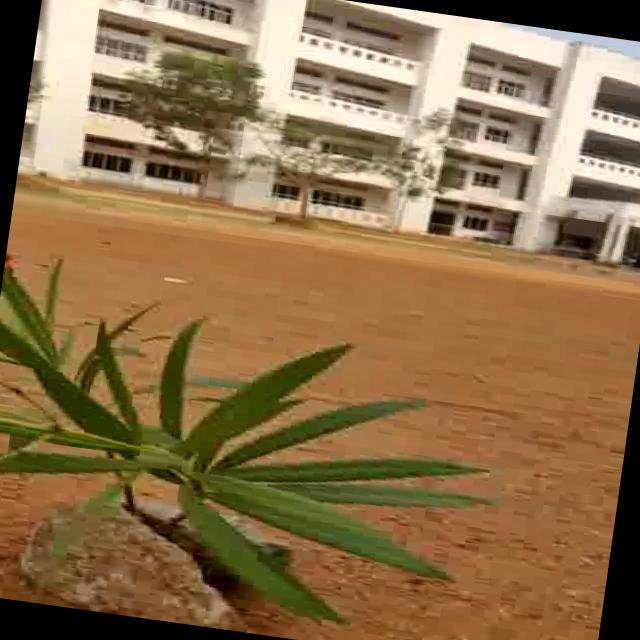Oleander: (0, 258, 505, 614)
